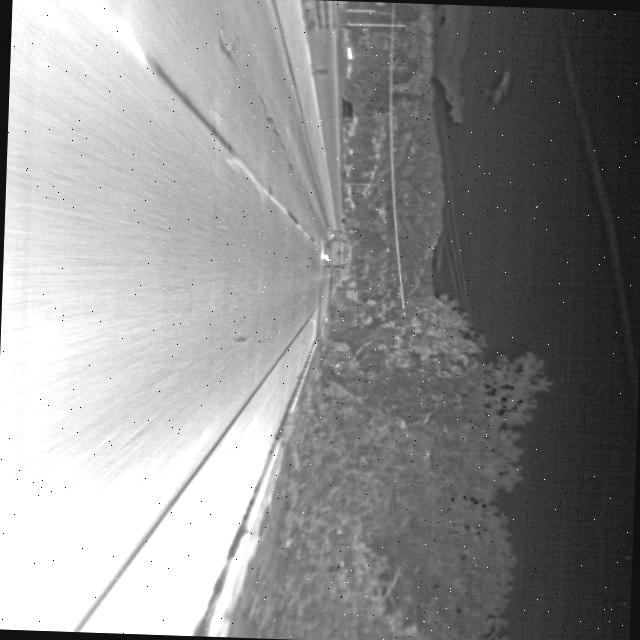Vehicle: (317, 236, 354, 271)
